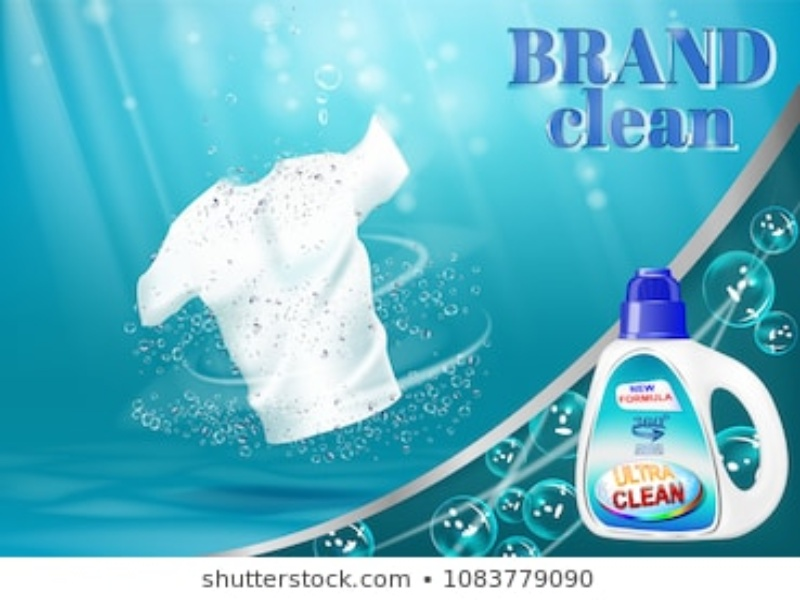detergent-bottle: (572, 265, 791, 547)
